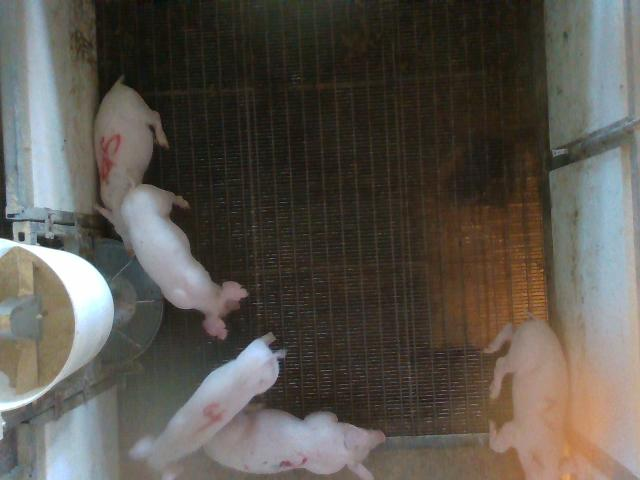pig-2: (485, 315, 568, 479)
pig-3: (204, 406, 385, 479)
pig-4: (130, 332, 285, 479)
pig-5: (94, 76, 169, 244)
